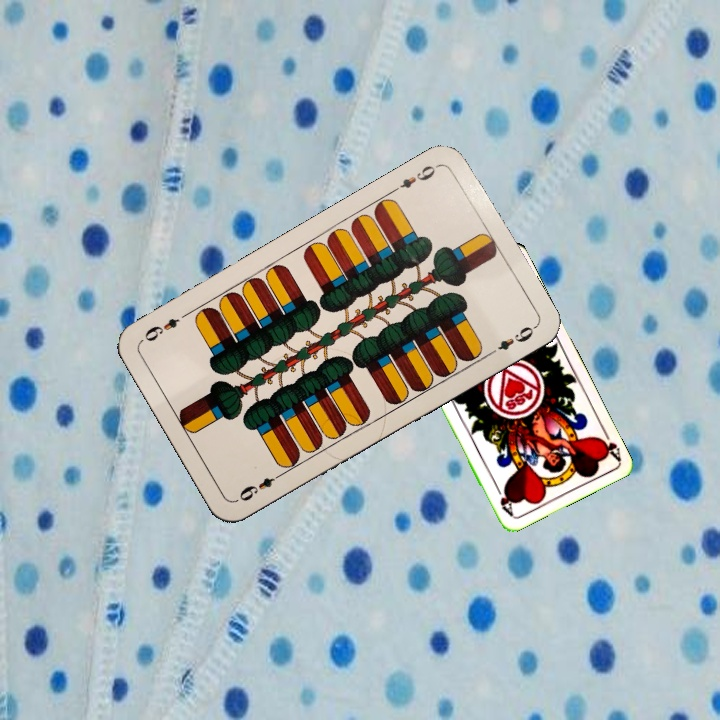E9: (233, 468, 286, 504), (388, 160, 442, 195)
HA: (592, 424, 623, 463)
